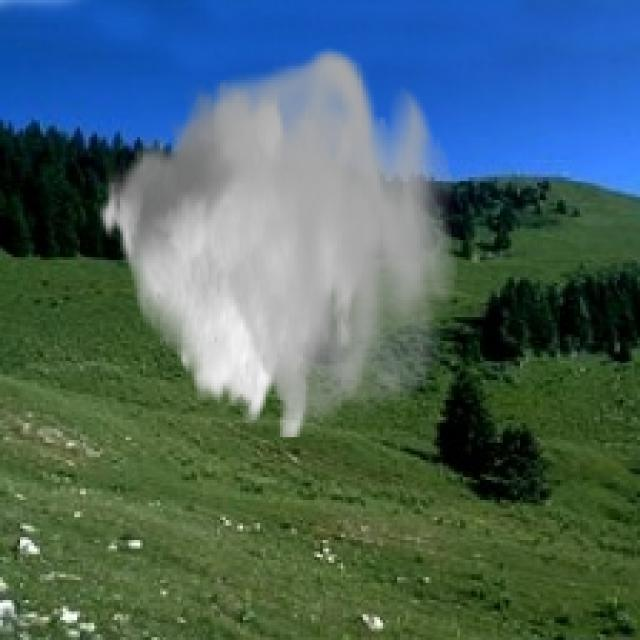smoke: (97, 43, 457, 437)
